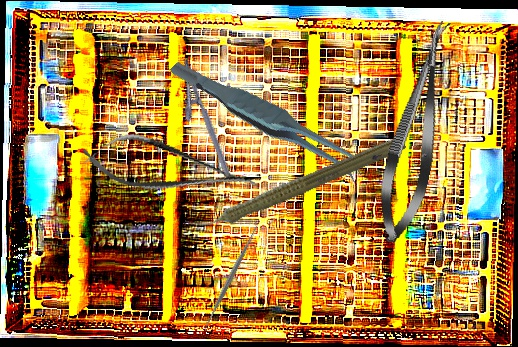Handpiece: (183, 126, 409, 244)
Micro Scissor: (369, 15, 464, 248), (77, 124, 263, 212)
Needle Holder: (165, 57, 234, 189)
Spatula Surgical: (197, 220, 265, 333)
Tissue Forceps: (168, 25, 368, 214)
